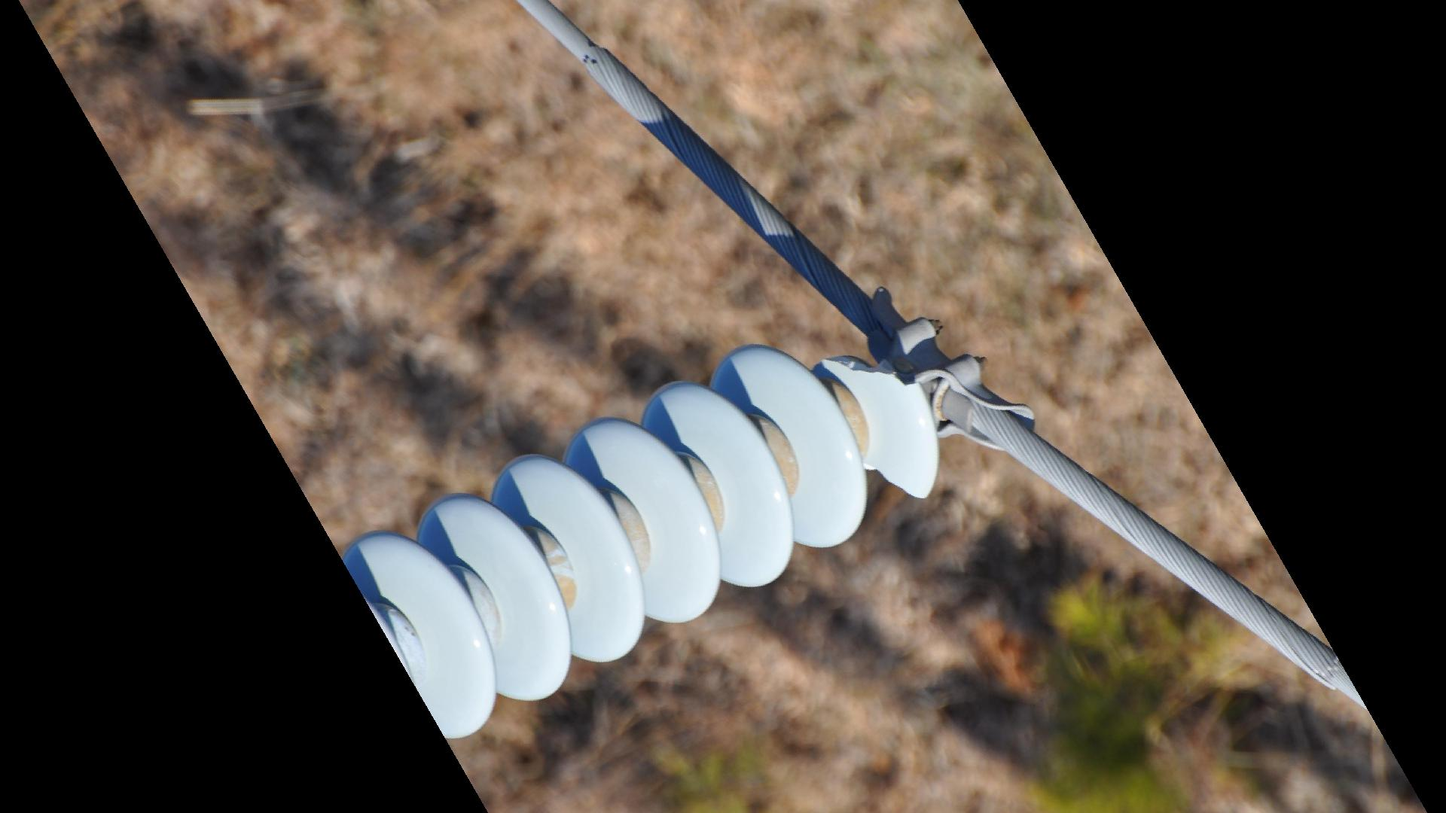insulator: (340, 335, 943, 752)
insulator_breakage: (810, 345, 921, 400), (856, 453, 935, 510)
